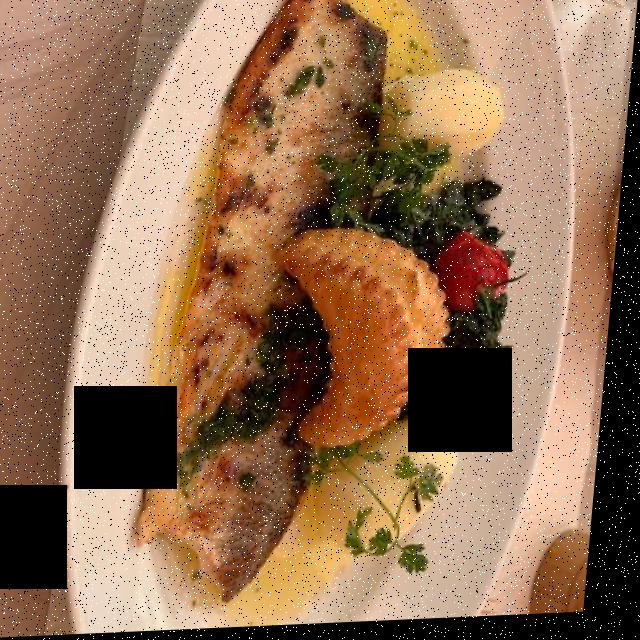bouquet-garni: (298, 88, 529, 434)
fish: (130, 0, 415, 606)
savoury-puff-pastry: (271, 213, 470, 461)
